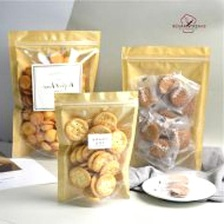snack: (2, 22, 107, 164), (114, 39, 216, 178), (49, 84, 146, 211)
